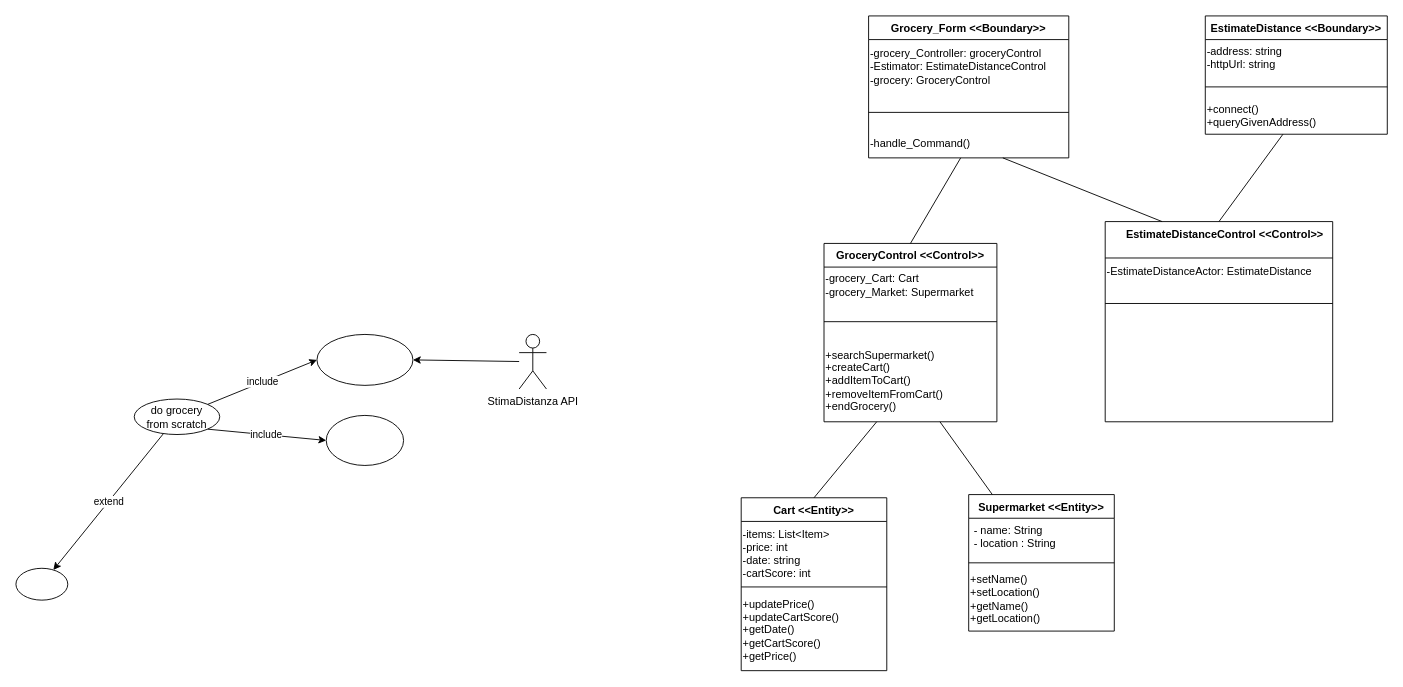
Some shapes in this 1403 by 687 pixel diagram are drawn without their labels. Here are the shapes that lost their labels. From the top down, the centre of each, then its label:
At pixel 364 359: "estimate nearest supermarket".
At pixel 364 440: "edit grocery".
At pixel 41 583: "Log In".
